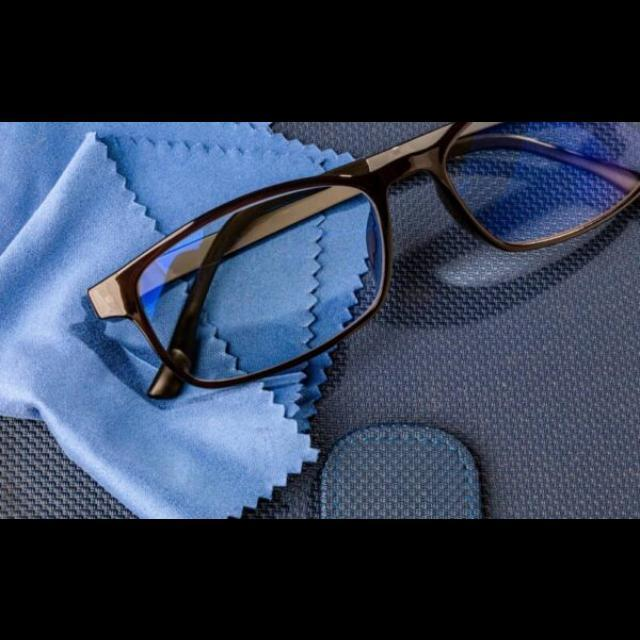glasses: (88, 121, 640, 399)
